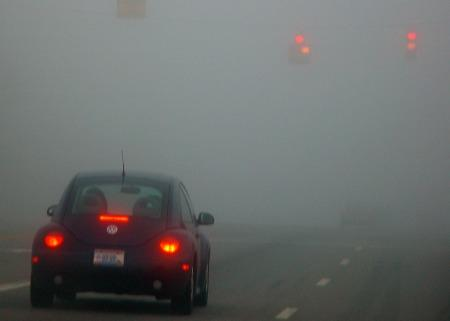car: (28, 151, 216, 314)
